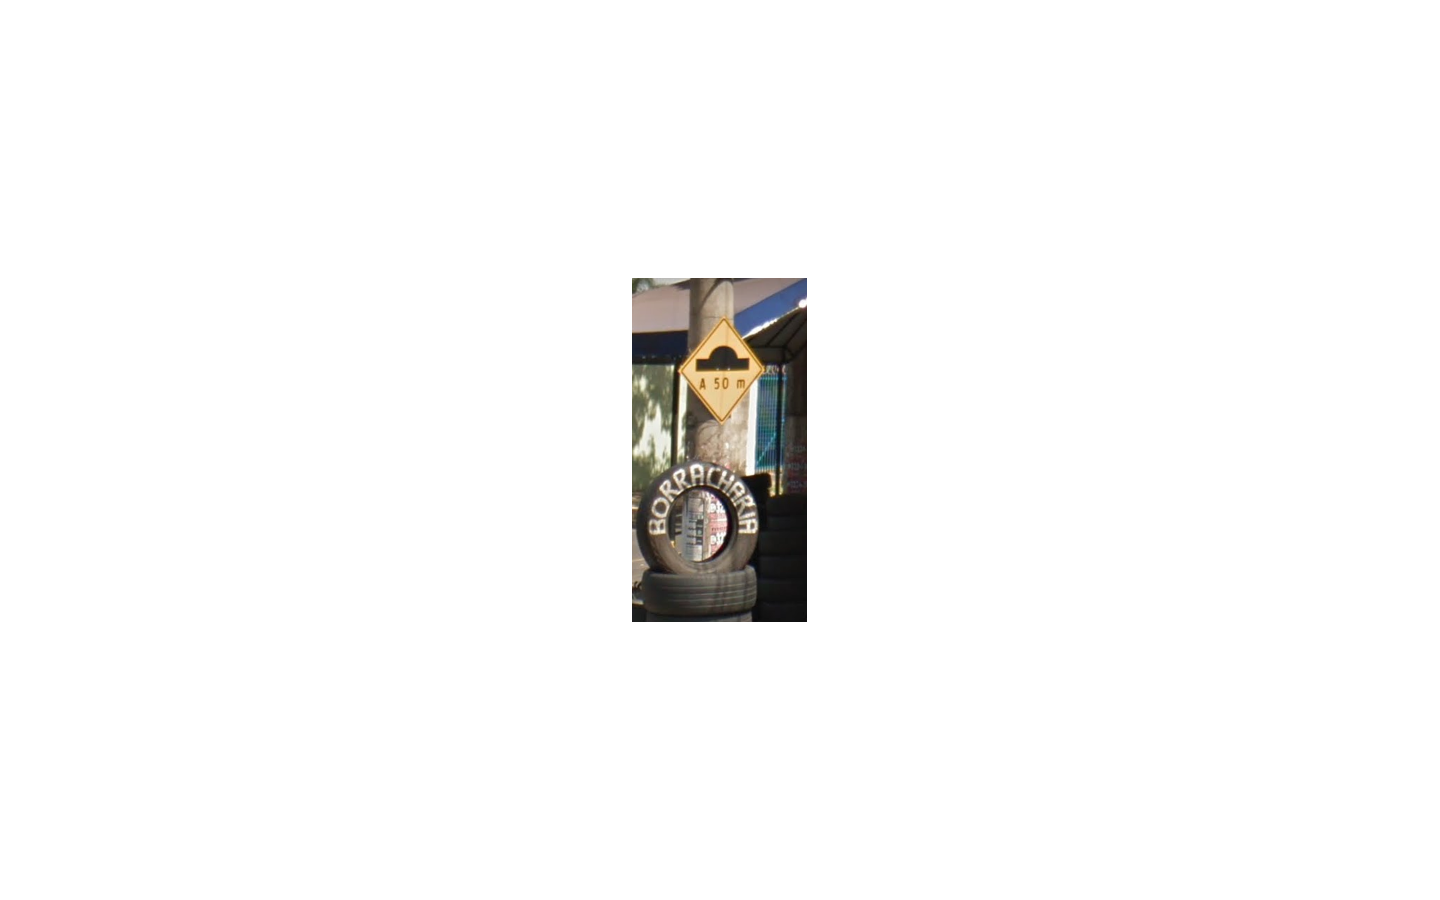l50m: (679, 316, 765, 424)
